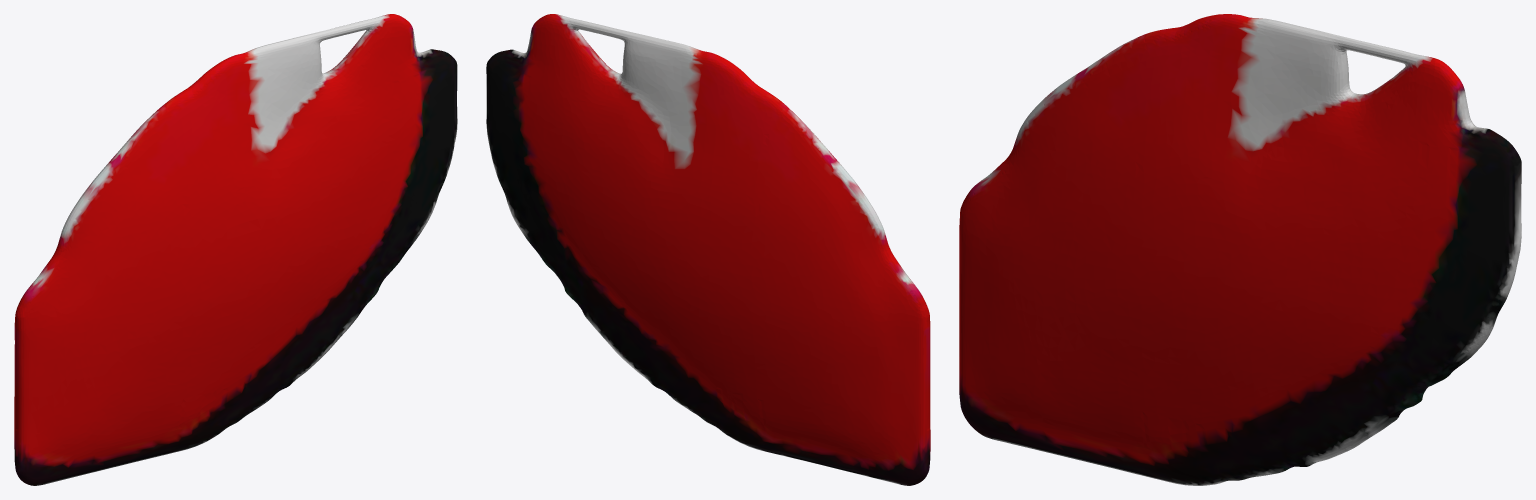
Rendered from ruby_flawless.glb.
3 views of the same model, side by side, from view 1: azimuth 30°, elevation 25°; view 2: azimuth 150°, elevation 25°; view 3: azimuth 330°, elevation 25° (orthographic). The views are drawn at different scales.
Parts seen in each view (by area): view 1: geometry_0; view 2: geometry_0; view 3: geometry_0.
Part boxes in pixels (bbox=[...]): geometry_0: bbox=[14, 14, 457, 485]; geometry_0: bbox=[486, 14, 930, 485]; geometry_0: bbox=[959, 14, 1521, 485].
Size of the model in its own units: 0.5938 by 0.4949 by 0.0875.
